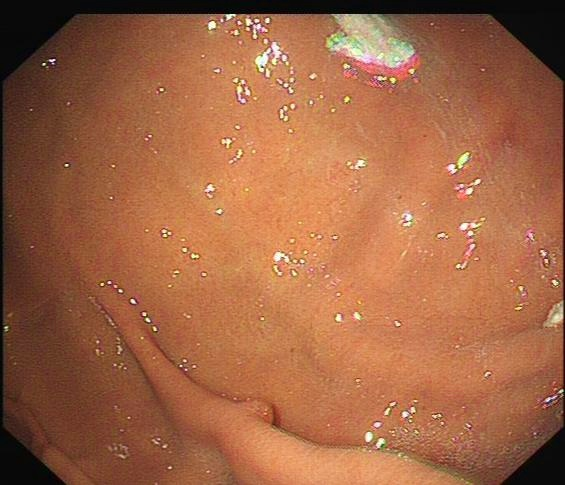Polyp: (231, 385, 285, 436)
